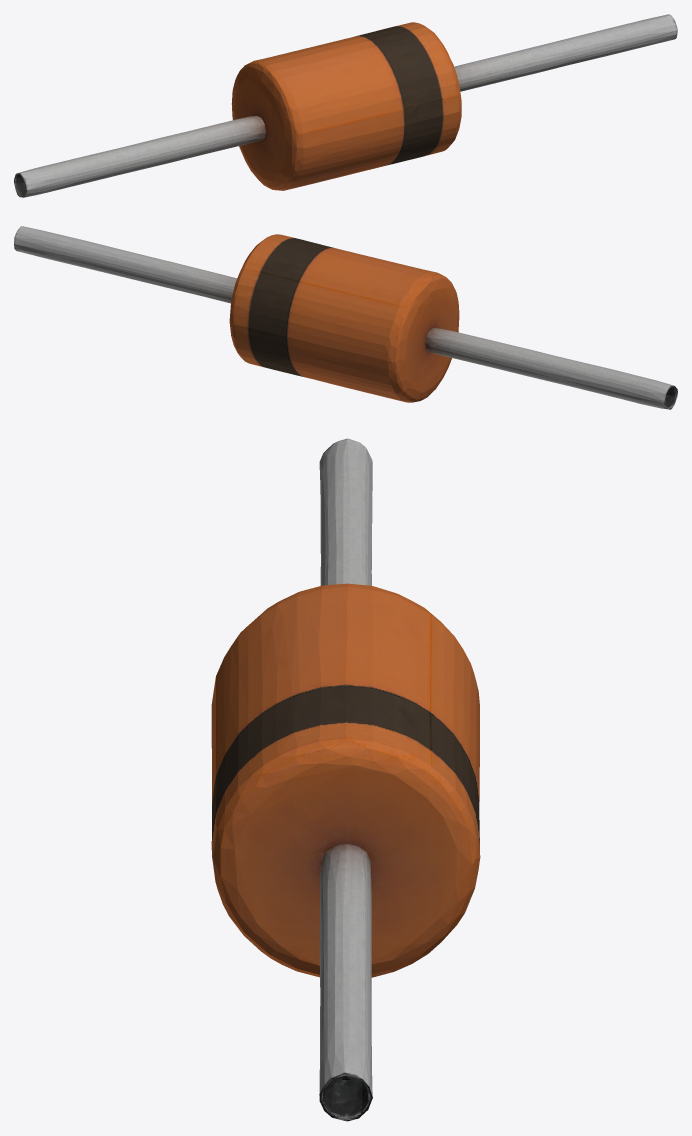
File: capacitor2.glb
The picture shows the model from 3 angles, top to bottom: view 1: azimuth 30°, elevation 25°; view 2: azimuth 150°, elevation 25°; view 3: azimuth 270°, elevation 25°; orthographic projection. The views are drawn at different scales.
Parts seen in each view (by area): view 1: world; view 2: world; view 3: world.
Boxes of the visible parts, x1,y1,x2,y2 form: world: [14, 14, 677, 197]; world: [14, 226, 677, 409]; world: [211, 438, 480, 1121].
Bounding box in the file's own units: 1 × 0.1791 × 0.1785.
Materials: 1 (1 with a texture image).
